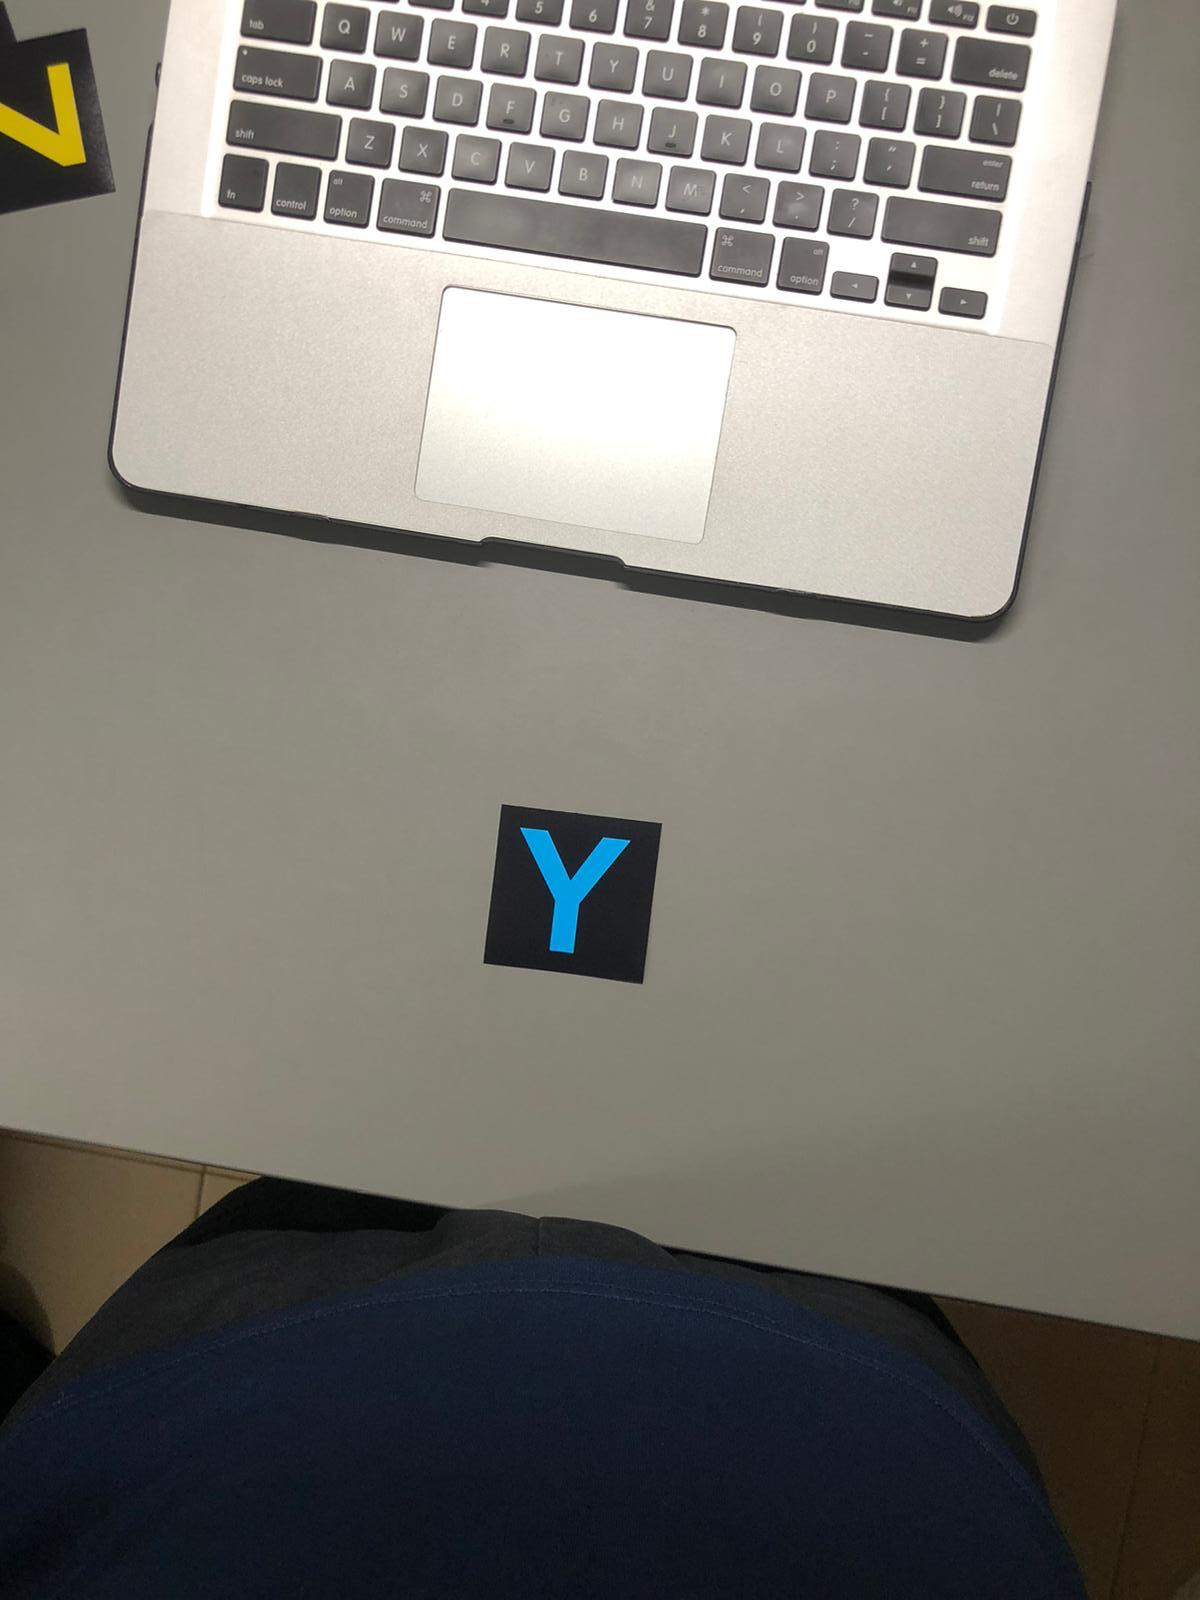Y: (497, 803, 649, 974)
